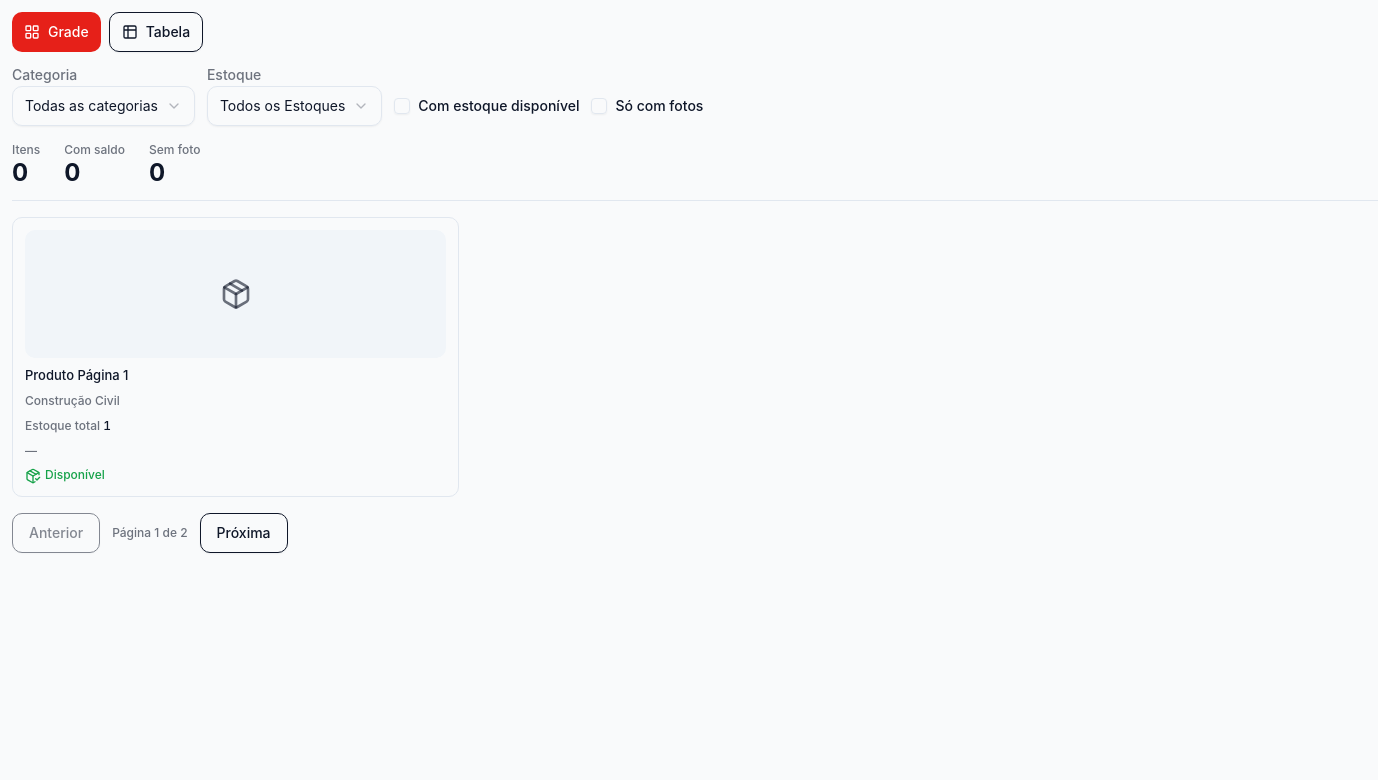
it: CatalogoListagem — grade (padrão) › paginação: "Próxima" busca a página seguinte e "Anterior" fica desabilitada na página 1
expect the text "Produto Página 1" is shown: met, box [25,367,128,383]
expect the button "Anterior" is disabled: met, box [12,513,100,553]
Click the button "Próxima".
click(244, 533)  # box [200,513,288,553]
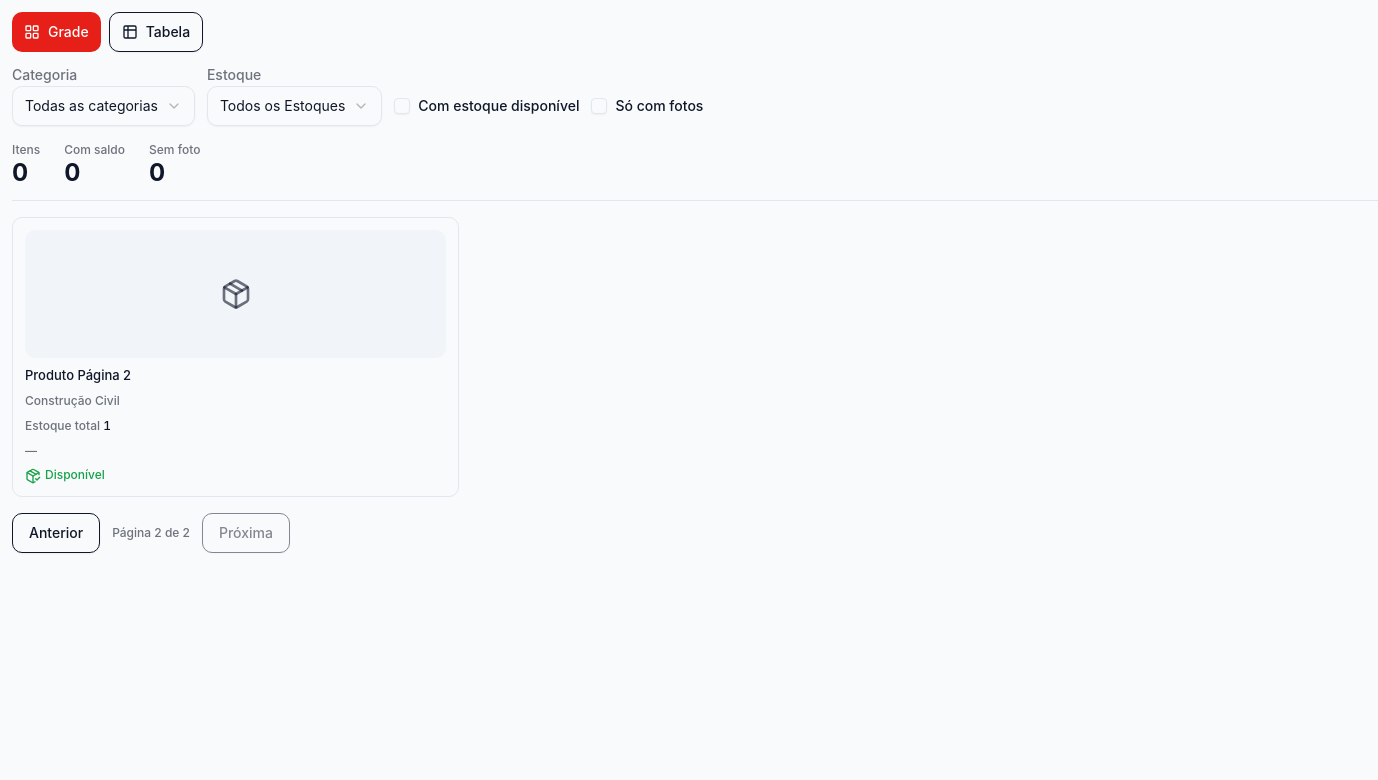
expect the text "Produto Página 2" is shown: met, box [25,367,131,383]
expect the text "Página 2 de 2" is shown: met, box [112,525,190,542]
